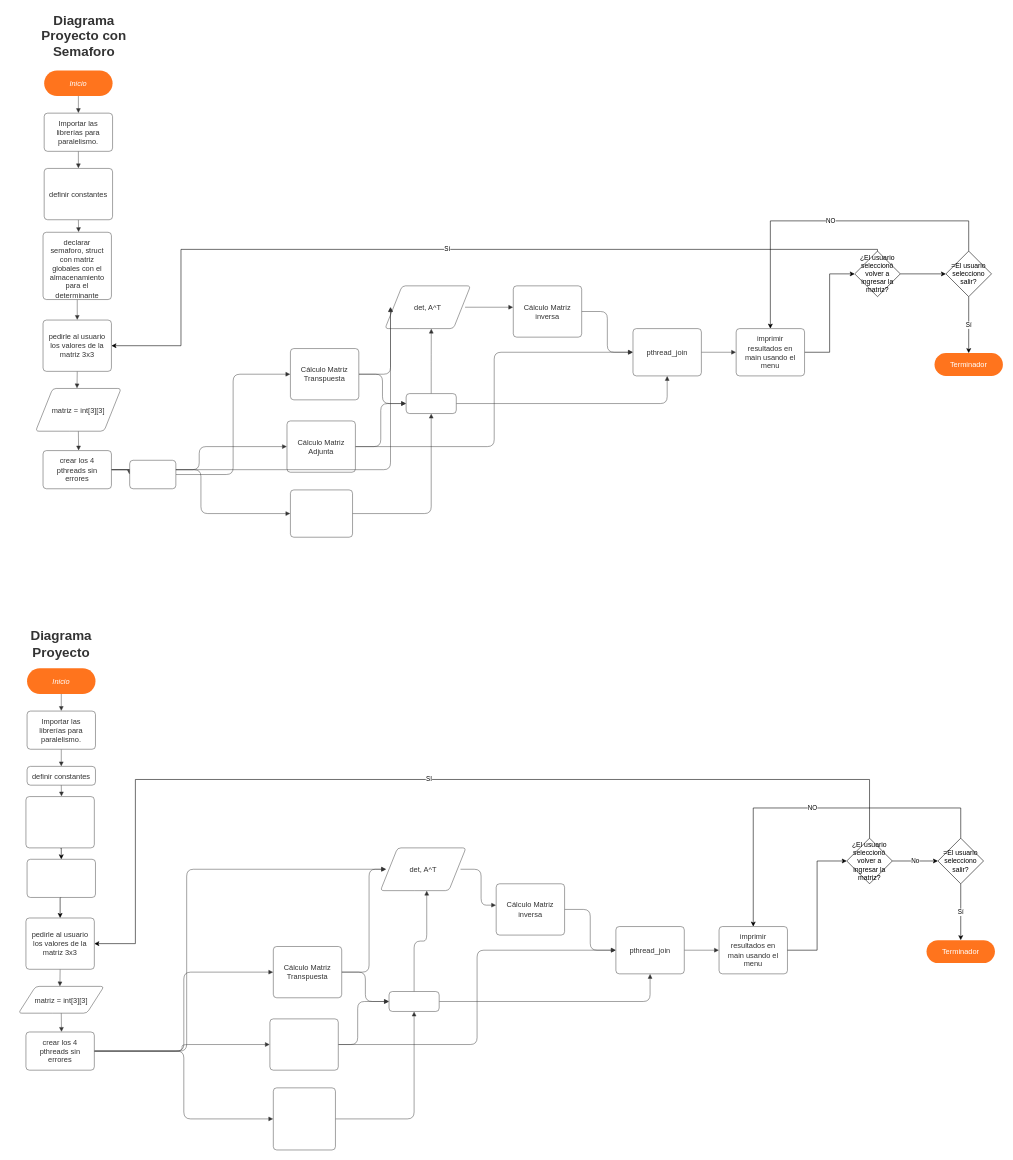
This 1013x1160 diagram has some shape labels left out. The centre of each missing label's shape, as x and y in pixels:
"Cálculo de determinante, Mutex_lock , retorno del determinante" belongs at (304,1118).
"Cálculo de determinante, retorno del determinante" belongs at (321,513).
"Cálculo Matriz Adjunta Mutex_lock" belongs at (303,1044).
"declarar mutex, struct con matriz globales, y determinante." belongs at (59,822).
"Inicializacion de threads y mutex_init" belongs at (61,878).
"Mutex_unlock" belongs at (414,1001).
"sem_init" belongs at (152,474).
"sem_post" belongs at (431,403).
